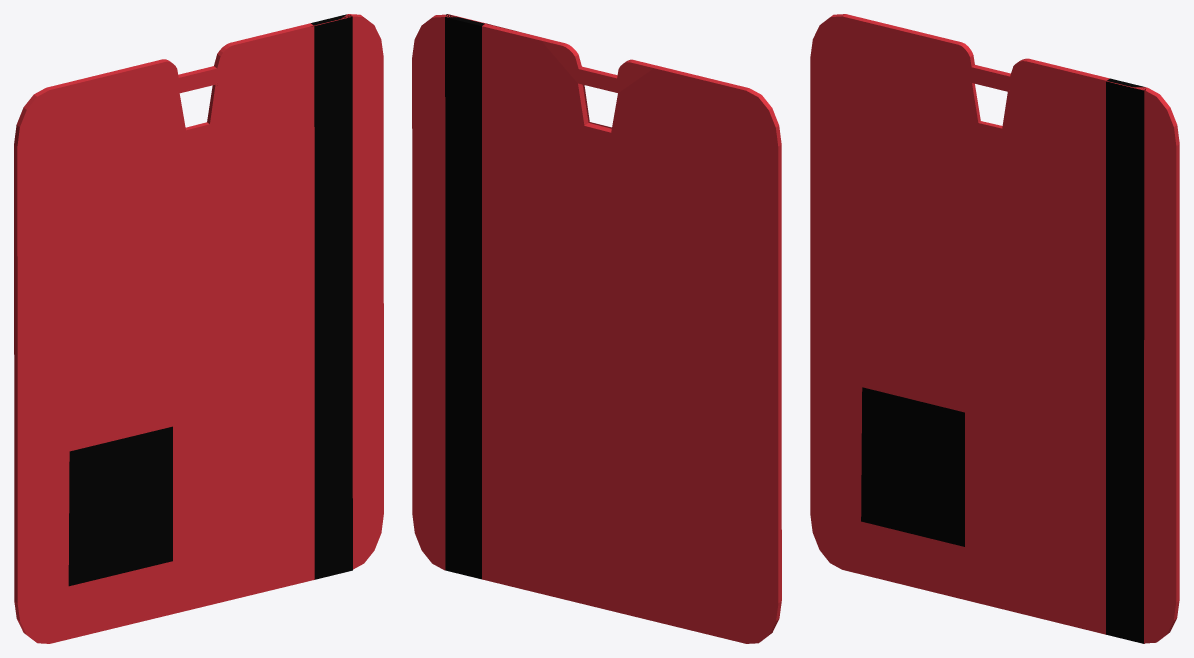
The model's file is keycard.fbx.
3 renders of one model, left to right at view 1: azimuth 30°, elevation 25°; view 2: azimuth 150°, elevation 25°; view 3: azimuth 330°, elevation 25°, orthographic.
Parts seen in each view (by area): view 1: Plane; view 2: Plane; view 3: Plane.
Boxes of the visible parts, x1,y1,x2,y2 form: Plane: (14, 14, 383, 643); Plane: (412, 14, 781, 643); Plane: (810, 14, 1179, 643).
Bounding box in the file's own units: 214 × 309 × 4.67.
